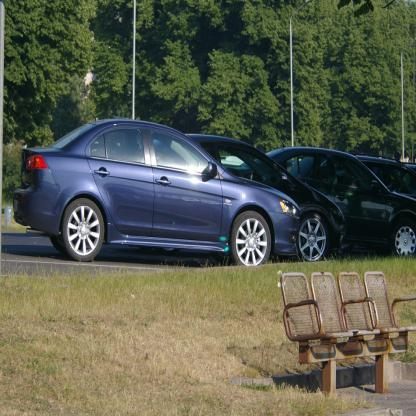Car: (12, 118, 302, 268), (186, 130, 344, 262), (264, 146, 416, 258), (354, 154, 416, 196)
